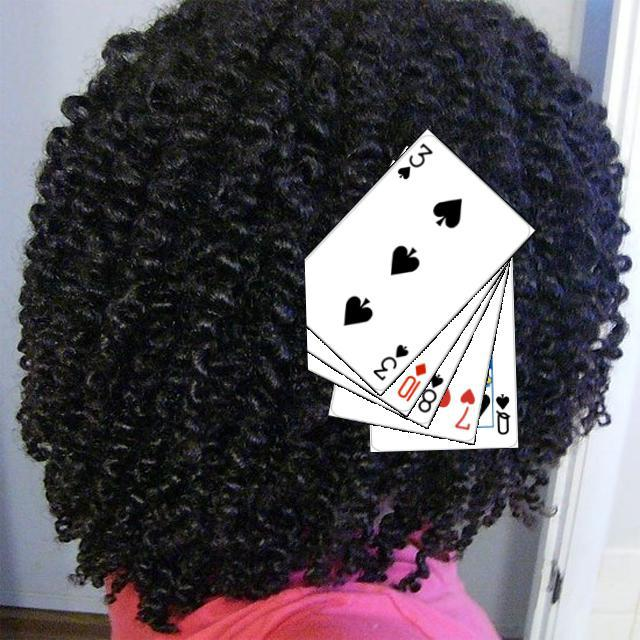10d: (392, 358, 428, 404)
3s: (368, 339, 410, 382), (392, 138, 434, 181)
7h: (449, 383, 477, 432)
8s: (413, 369, 445, 415)
Qs: (491, 389, 512, 436)
